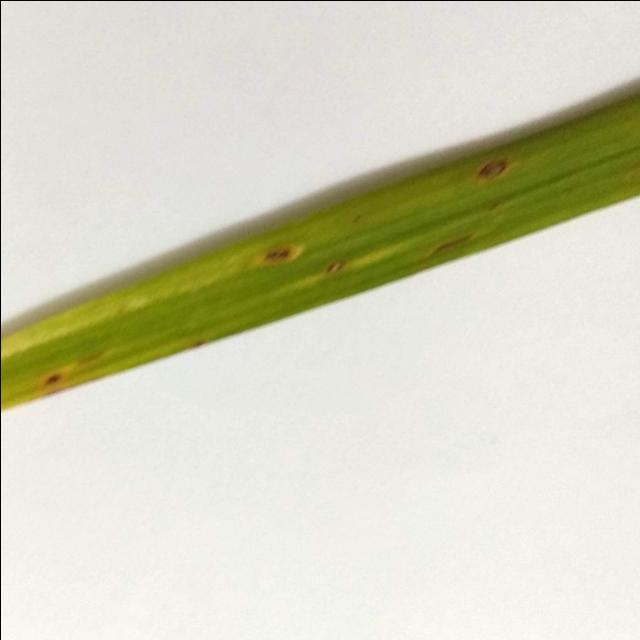Leaf blast: (0, 86, 640, 415)
